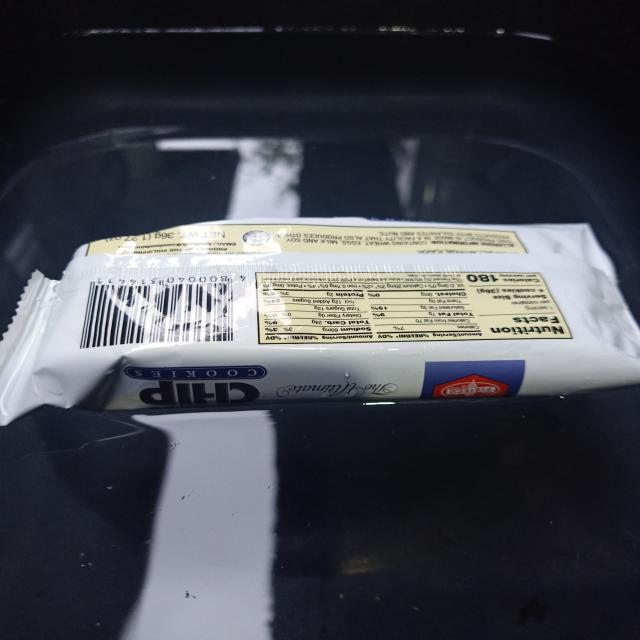Plastic Wrapper: (15, 212, 640, 444)
